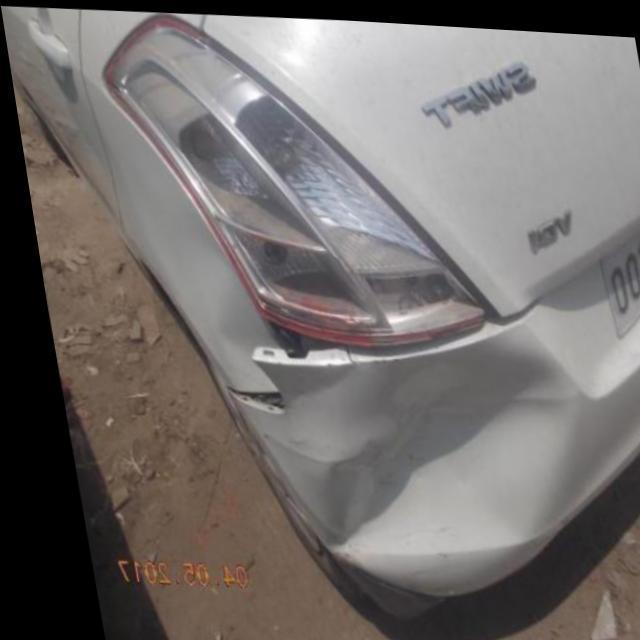dent: (310, 316, 574, 565)
dislocated part: (243, 314, 359, 363)
